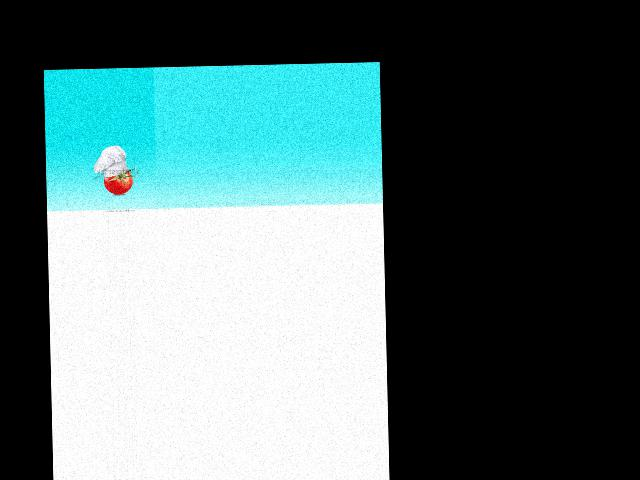tomato: (103, 169, 132, 194)
